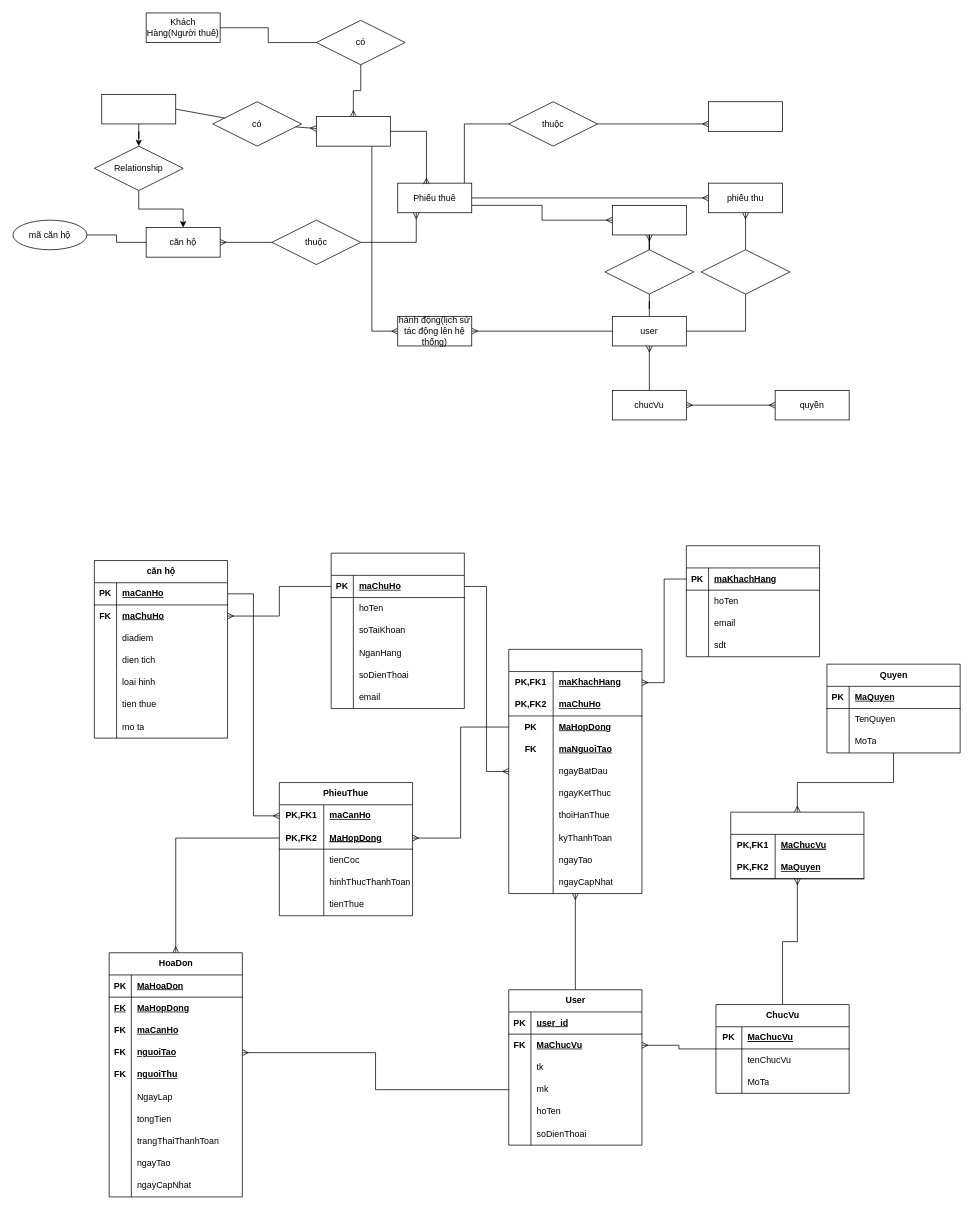
The diagram is 973 pixels wide and 1210 high, and some of its shapes have lost their labels. Each missing label, with the box of its shape:
ChucVu_Quyen: (730, 811, 864, 879)
chủ hộ: (330, 552, 464, 709)
chủ xí nghiệp: (101, 94, 176, 124)
hóa đơn: (708, 101, 783, 131)
Hơp Đồng: (508, 649, 642, 894)
Hợp đồng: (316, 116, 390, 146)
KháchHang: (686, 545, 820, 657)
Phiếu dục: (612, 205, 686, 235)
đi giục: (604, 249, 694, 294)
đi thu: (700, 249, 790, 294)
